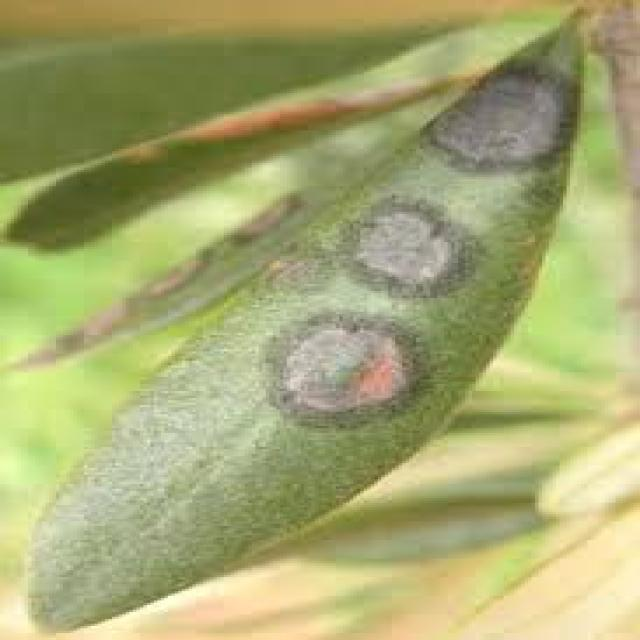OlivePeacockSpot: (28, 12, 577, 630)
